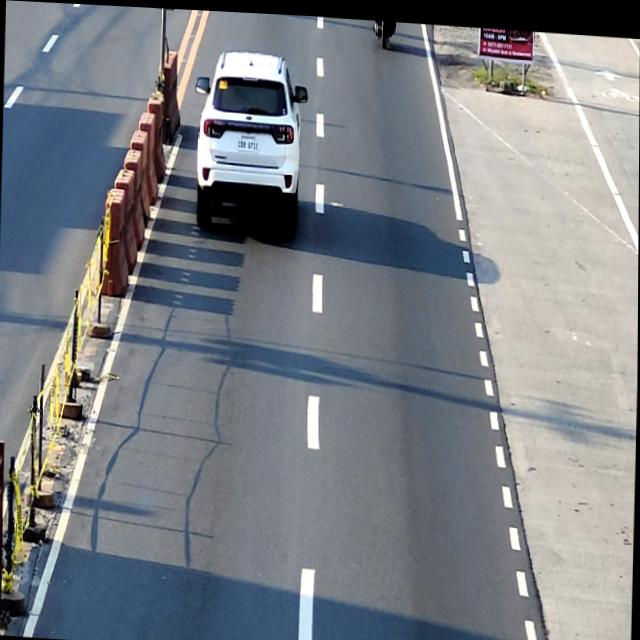Car: (192, 44, 309, 236)
License-Plate: (237, 135, 259, 149)
